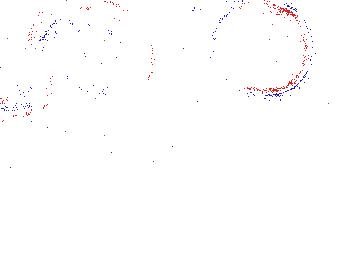moon jellyfish: (31, 1, 153, 103), (216, 1, 314, 95), (203, 4, 282, 86), (1, 34, 53, 118)
